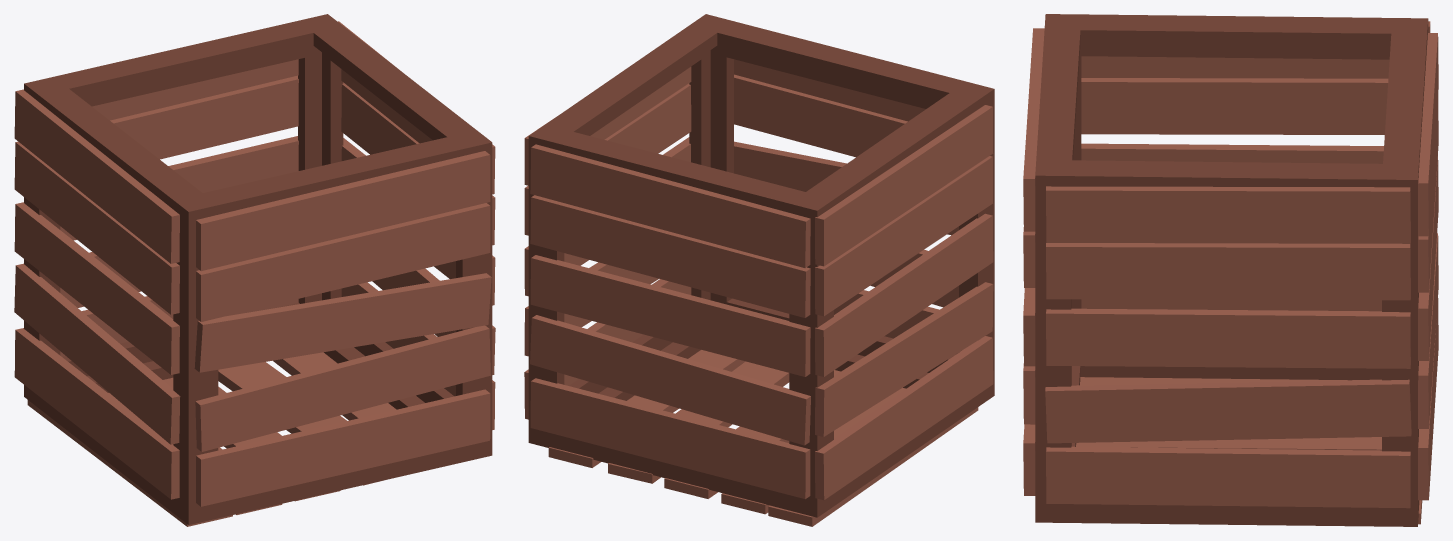
File: Crate.fbx
The picture shows the model from 3 angles, left to right: view 1: azimuth 30°, elevation 25°; view 2: azimuth 150°, elevation 25°; view 3: azimuth 270°, elevation 25°; orthographic projection. The views are drawn at different scales.
Visible parts, largest first — view 1: Crate; view 2: Crate; view 3: Crate.
Part boxes in pixels (x1=…): Crate: x1=14, y1=14, x2=495, y2=526; Crate: x1=524, y1=14, x2=994, y2=526; Crate: x1=1023, y1=14, x2=1438, y2=526.
Size of the model in its own units: 0.5677 by 0.5434 by 0.5708.
1 material, 1 textured.
